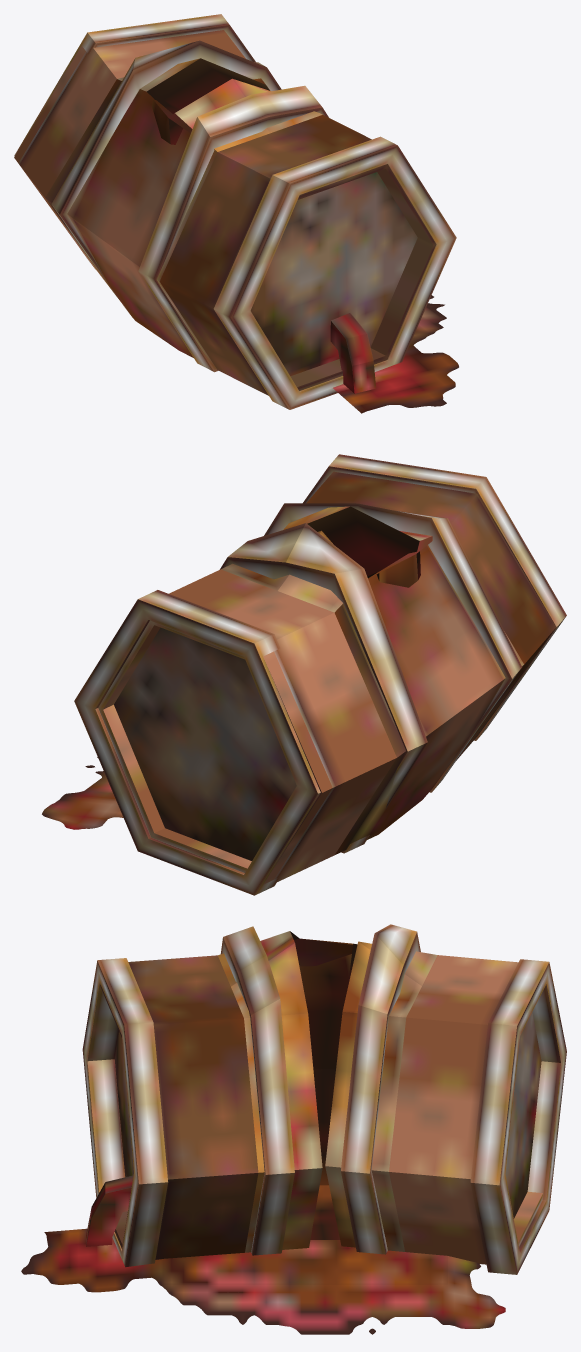
The model's file is Poly_SF_Outside_B_Oil_Drum_Leak_01.obj.
3 renders of one model, top to bottom at view 1: azimuth 30°, elevation 25°; view 2: azimuth 150°, elevation 25°; view 3: azimuth 270°, elevation 25°, orthographic. The views are drawn at different scales.
Parts seen in each view (by area): view 1: Cube.001, Cube.003, Cube.005, Cube.004; view 2: Cube.001, Cube.003, Cube.005; view 3: Cube.001, Cube.003, Cube.005, Cube.004.
Boxes of the visible parts, x1,y1,x2,y2 form: Cube.001: (14,30,436,395); Cube.003: (14,14,456,409); Cube.005: (333,295,458,413); Cube.004: (330,312,376,393); Cube.001: (98,471,556,884); Cube.003: (74,454,566,895); Cube.005: (42,757,123,829); Cube.001: (100,931,542,1264); Cube.003: (82,924,566,1274); Cube.005: (21,1228,505,1334); Cube.004: (86,1175,133,1246).
Bounding box in the file's own units: 0.9098 × 0.7126 × 1.21.
1 material, 1 textured.
